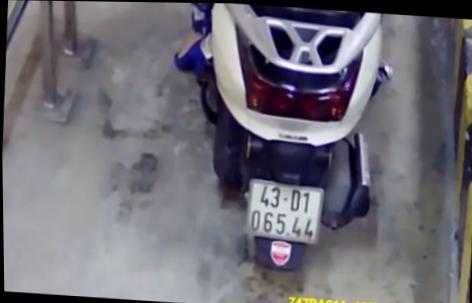LP: (243, 175, 325, 246)
